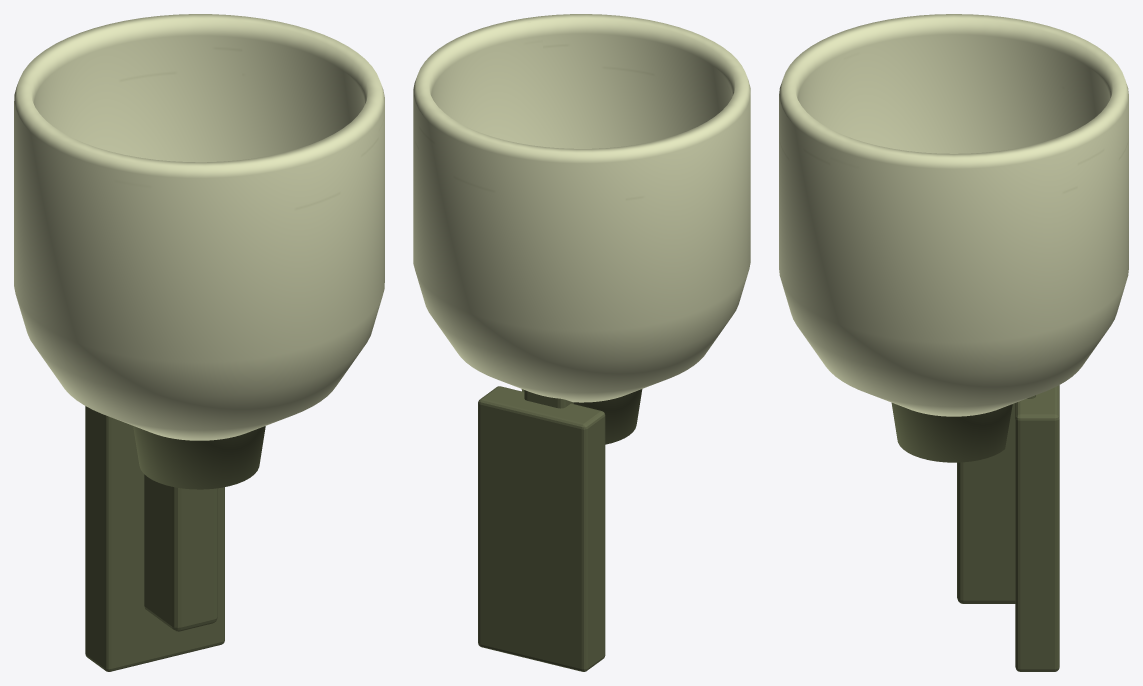
Rendered from StraightLamp_ARCH01.fbx.
The picture shows the model from 3 angles, left to right: view 1: azimuth 30°, elevation 25°; view 2: azimuth 150°, elevation 25°; view 3: azimuth 270°, elevation 25°; orthographic projection. The views are drawn at different scales.
Visible parts, largest first — view 1: StraightLamp; view 2: StraightLamp; view 3: StraightLamp.
Boxes of the visible parts, box(x1,y1,x2,y2) form: StraightLamp: box(14, 14, 384, 671); StraightLamp: box(413, 14, 750, 671); StraightLamp: box(779, 14, 1128, 671).
Size of the model in its own units: 0.222 by 0.3914 by 0.222.
Materials: 2 (1 with a texture image).
